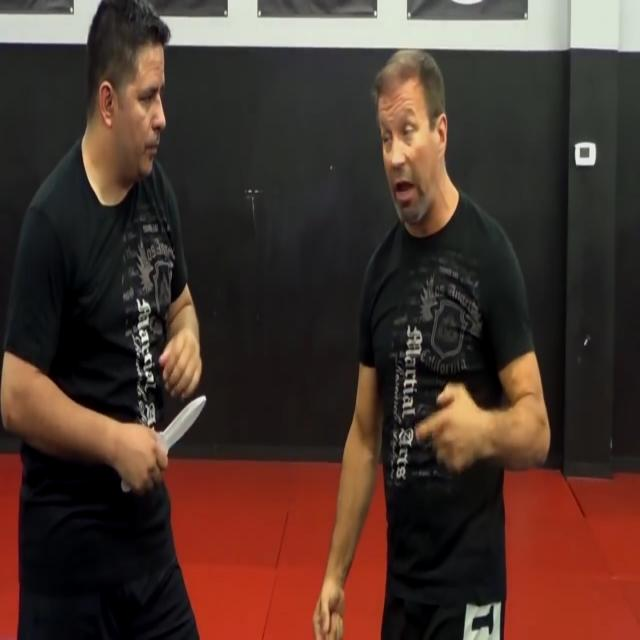knife: (162, 395, 208, 449)
